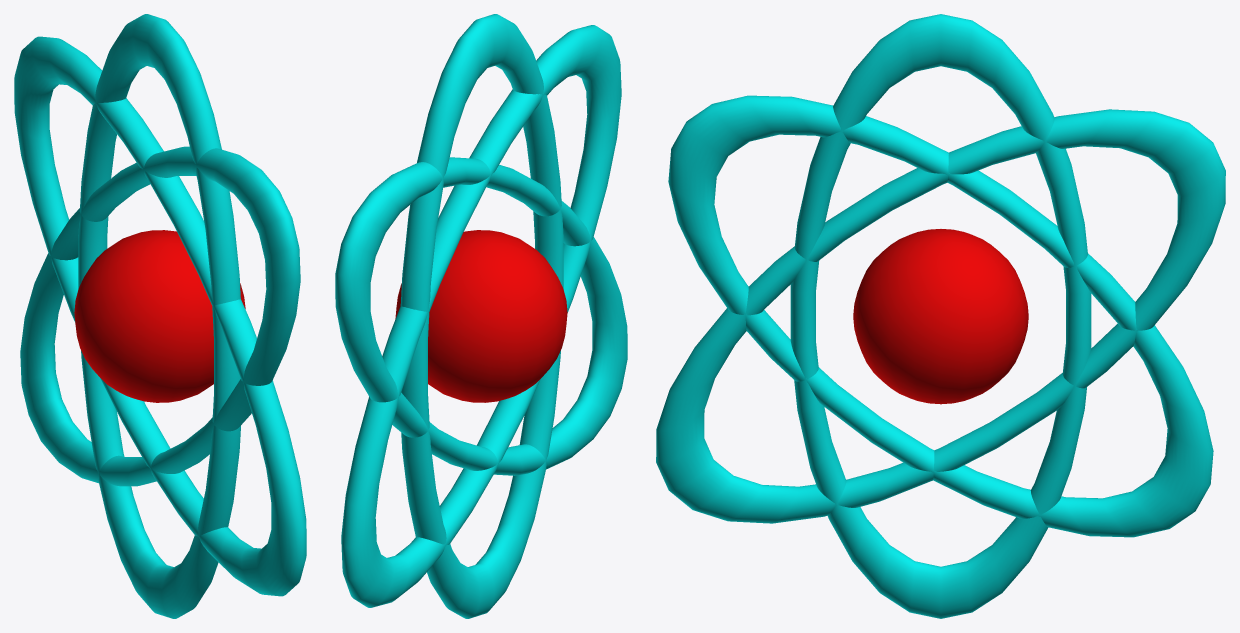
File: Atom-transformed.glb
3 views of the same model, side by side, from view 1: azimuth 30°, elevation 25°; view 2: azimuth 150°, elevation 25°; view 3: azimuth 270°, elevation 25° (orthographic).
Visible parts, largest first — view 1: pTorus3, pTorus1, pTorus2, pSphere1; view 2: pTorus2, pTorus1, pTorus3, pSphere1; view 3: pTorus3, pTorus2, pTorus1, pSphere1.
Part boxes in pixels (box(x1,y1,x2,y2)): pTorus3: box(14, 36, 306, 596); pTorus1: box(78, 14, 240, 618); pTorus2: box(20, 146, 300, 486); pSphere1: box(74, 230, 245, 402); pTorus2: box(341, 25, 621, 607); pTorus1: box(400, 14, 563, 618); pTorus3: box(335, 157, 627, 475); pSphere1: box(395, 230, 567, 402); pTorus3: box(656, 109, 1225, 523); pTorus2: box(668, 95, 1213, 537); pTorus1: box(790, 14, 1091, 618); pSphere1: box(853, 229, 1028, 404).
Bounding box in the file's own units: 2.87 × 10.9 × 9.33.
